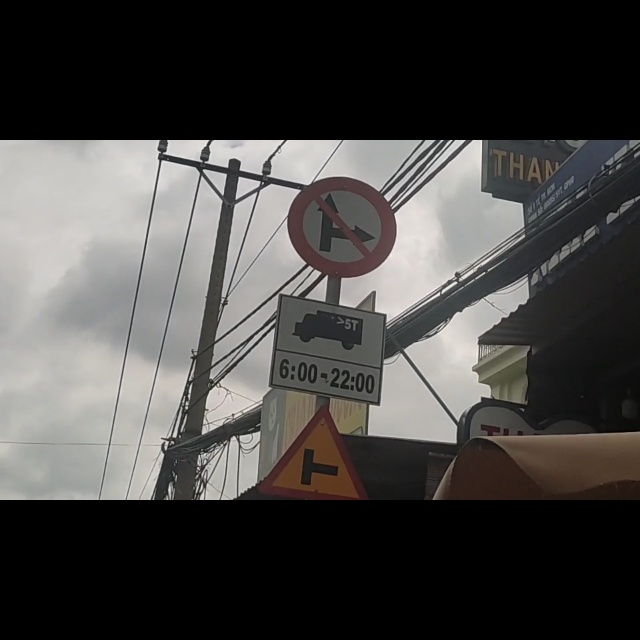bien_cam: (273, 275, 383, 455), (289, 65, 397, 241), (261, 472, 363, 640)
